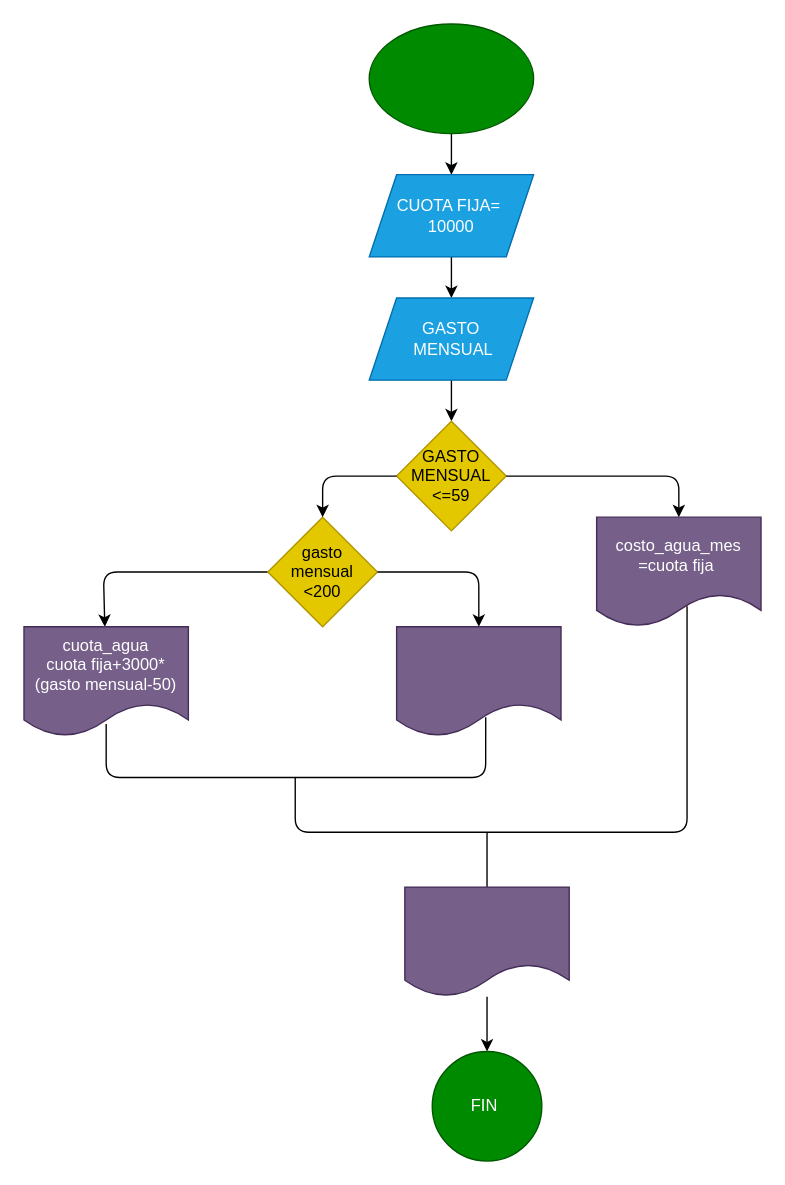
This 785x1185 diagram has some shape labels left out. Here are the shapes that lost their labels. From the top down, the centre of each, then its label:
the point at 451,78: INCIO
the point at 478,680: cuota_agua cuota fija+2000* (gasto mensual-50)
the point at 486,941: costo_agua_mes
